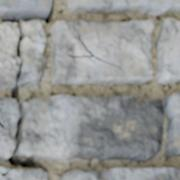brick: (51, 19, 153, 85), (68, 0, 179, 14), (156, 18, 179, 82), (60, 168, 179, 179), (164, 93, 179, 156), (0, 0, 51, 16), (0, 169, 48, 179), (0, 167, 6, 172)
broken_brick: (19, 94, 164, 161), (20, 20, 46, 86), (0, 23, 18, 89), (0, 97, 18, 160)
crack: (0, 2, 54, 177), (161, 101, 164, 112)
